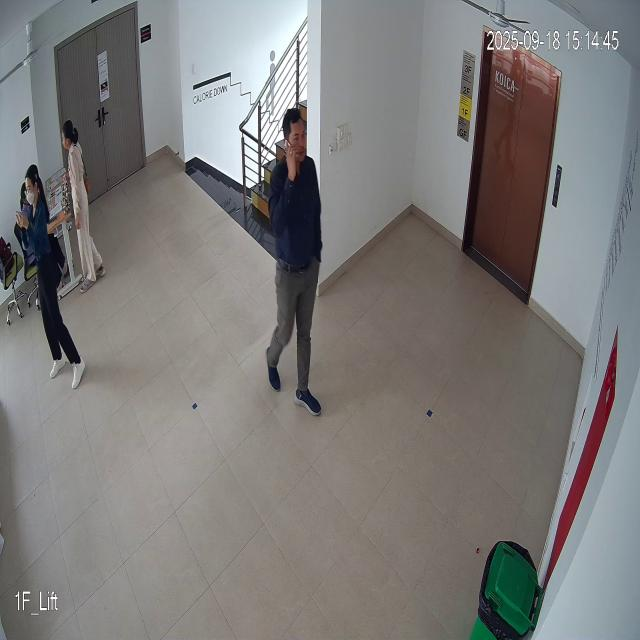face: (281, 107, 310, 169)
